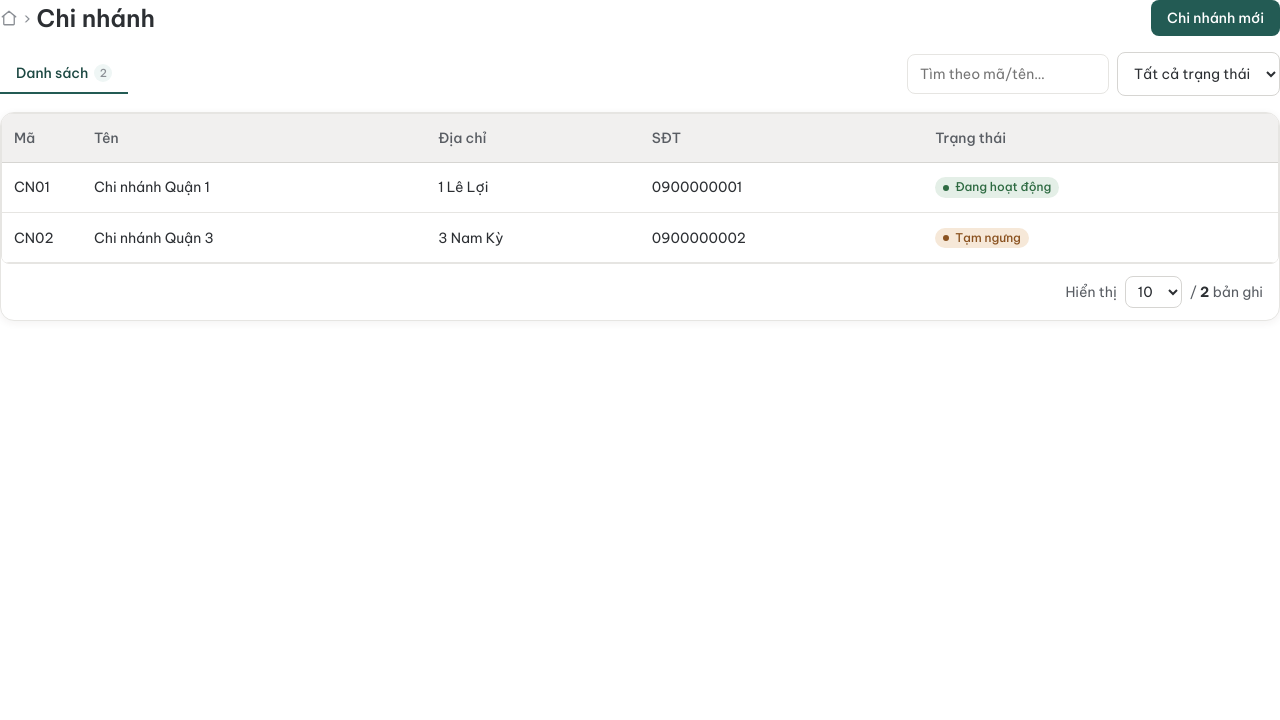
Test: BranchesPage › opens the edit dialog with status controls on row click
Click the text "Chi nhánh Quận 1": (254, 187) left=82, top=162, right=426, bottom=212
(page scrolled)
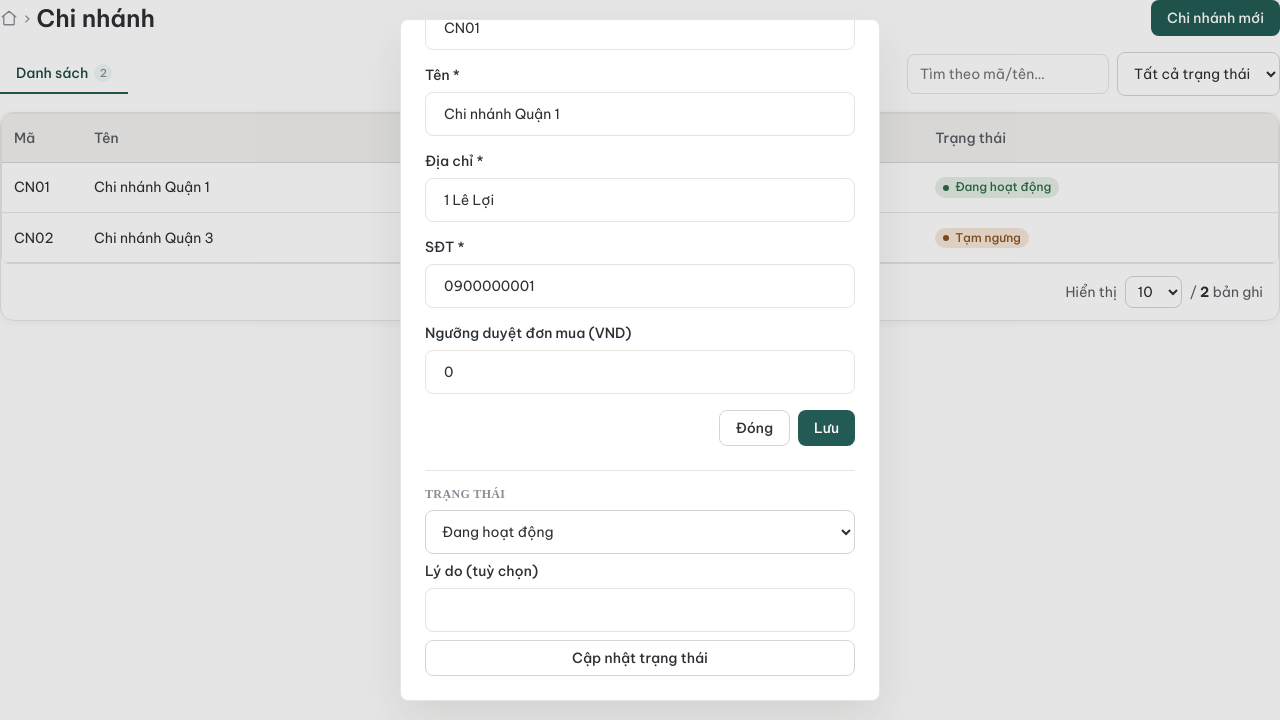
Result: the dropdown named "Đổi trạng thái" is shown at left=425, top=510, right=855, bottom=554
Result: the button "Cập nhật trạng thái" is shown at left=425, top=640, right=855, bottom=676
